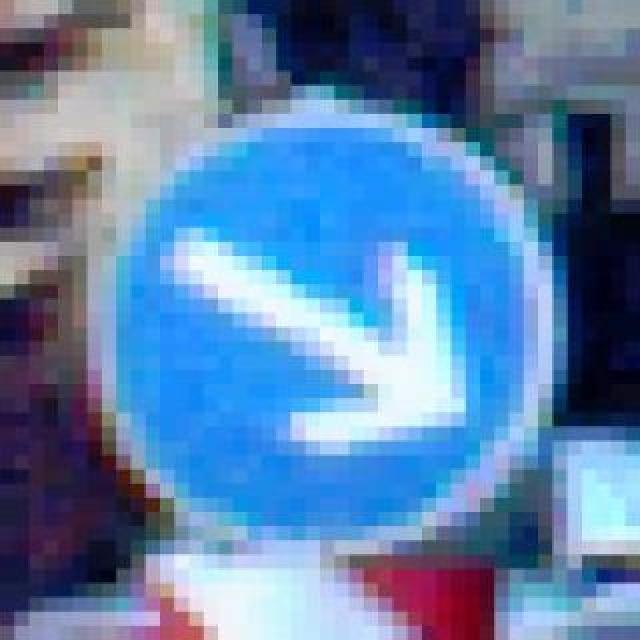keep right: (74, 86, 554, 542)
